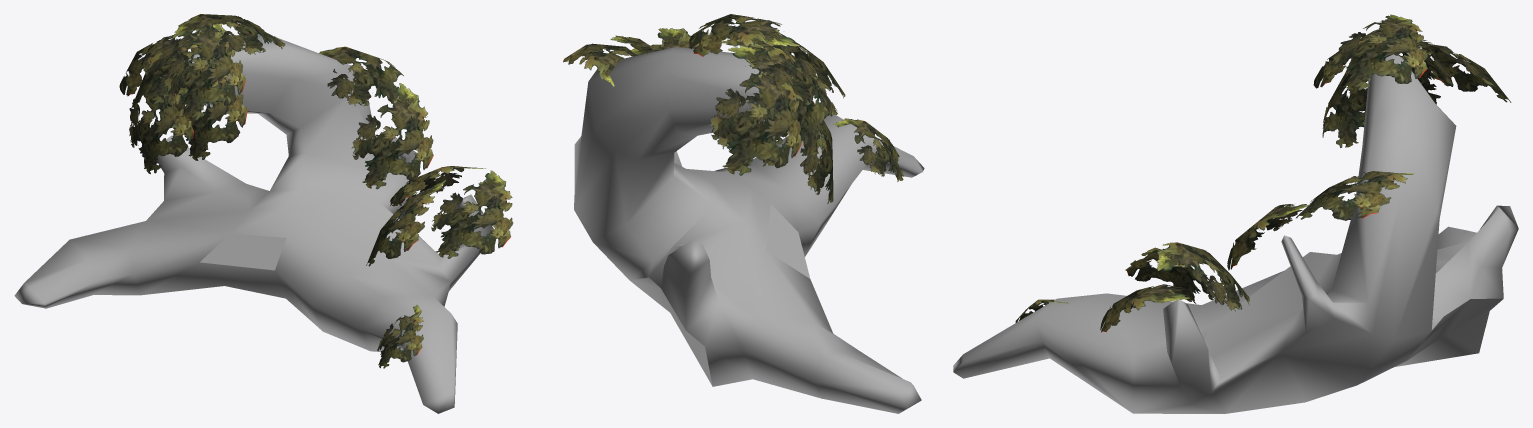
Rendered from Arbolaco.fbx.
The picture shows the model from 3 angles, left to right: view 1: azimuth 30°, elevation 25°; view 2: azimuth 150°, elevation 25°; view 3: azimuth 270°, elevation 25°; orthographic projection. The views are drawn at different scales.
Visible parts, largest first — view 1: Arbolaco:pCube1, Arbolaco:pPlane15, Arbolaco:pPlane5, Arbolaco:pPlane9, Arbolaco:pPlane12, Arbolaco:pPlane16, Arbolaco:pPlane11, Arbolaco:pPlane6, Arbolaco:pPlane14, Arbolaco:pPlane17, Arbolaco:pPlane13, Arbolaco:pPlane7 (+2 smaller); view 2: Arbolaco:pCube1, Arbolaco:pPlane10, Arbolaco:pPlane8, Arbolaco:pPlane14, Arbolaco:pPlane13, Arbolaco:pPlane17, Arbolaco:pPlane12, Arbolaco:pPlane16, Arbolaco:pPlane9, Arbolaco:pPlane7, Arbolaco:pPlane15; view 3: Arbolaco:pCube1, Arbolaco:pPlane14, Arbolaco:pPlane16, Arbolaco:pPlane7, Arbolaco:pPlane11, Arbolaco:pPlane10, Arbolaco:pPlane6, Arbolaco:pPlane15, Arbolaco:pPlane5, Arbolaco:pPlane8, Arbolaco:pPlane9.
Part boxes in pixels (<box>): Arbolaco:pCube1: <box>14,34,493,413</box>; Arbolaco:pPlane15: <box>351,83,433,189</box>; Arbolaco:pPlane5: <box>431,170,513,258</box>; Arbolaco:pPlane9: <box>164,24,245,120</box>; Arbolaco:pPlane12: <box>129,75,193,174</box>; Arbolaco:pPlane16: <box>319,46,403,106</box>; Arbolaco:pPlane11: <box>173,75,247,160</box>; Arbolaco:pPlane6: <box>366,180,446,266</box>; Arbolaco:pPlane14: <box>172,14,285,54</box>; Arbolaco:pPlane17: <box>377,304,423,368</box>; Arbolaco:pPlane13: <box>144,23,226,104</box>; Arbolaco:pPlane7: <box>390,166,485,206</box>; Arbolaco:pCube1: <box>574,47,924,413</box>; Arbolaco:pPlane10: <box>709,70,801,175</box>; Arbolaco:pPlane8: <box>728,43,832,155</box>; Arbolaco:pPlane14: <box>689,14,799,56</box>; Arbolaco:pPlane13: <box>719,38,837,115</box>; Arbolaco:pPlane17: <box>833,118,903,181</box>; Arbolaco:pPlane12: <box>796,99,833,203</box>; Arbolaco:pPlane16: <box>563,43,637,86</box>; Arbolaco:pPlane9: <box>753,34,845,98</box>; Arbolaco:pPlane7: <box>657,28,700,49</box>; Arbolaco:pPlane15: <box>610,35,657,53</box>; Arbolaco:pCube1: <box>953,54,1518,413</box>; Arbolaco:pPlane14: <box>1331,14,1427,90</box>; Arbolaco:pPlane16: <box>1296,171,1414,220</box>; Arbolaco:pPlane7: <box>1157,242,1249,311</box>; Arbolaco:pPlane11: <box>1322,70,1367,147</box>; Arbolaco:pPlane10: <box>1419,43,1511,102</box>; Arbolaco:pPlane6: <box>1125,247,1214,303</box>; Arbolaco:pPlane15: <box>1227,204,1310,270</box>; Arbolaco:pPlane5: <box>1100,284,1189,332</box>; Arbolaco:pPlane8: <box>1383,36,1452,86</box>; Arbolaco:pPlane9: <box>1313,29,1392,88</box>.
Size of the model in its own units: 1503 by 1067 by 1666.
Materials: 2 (1 with a texture image).
